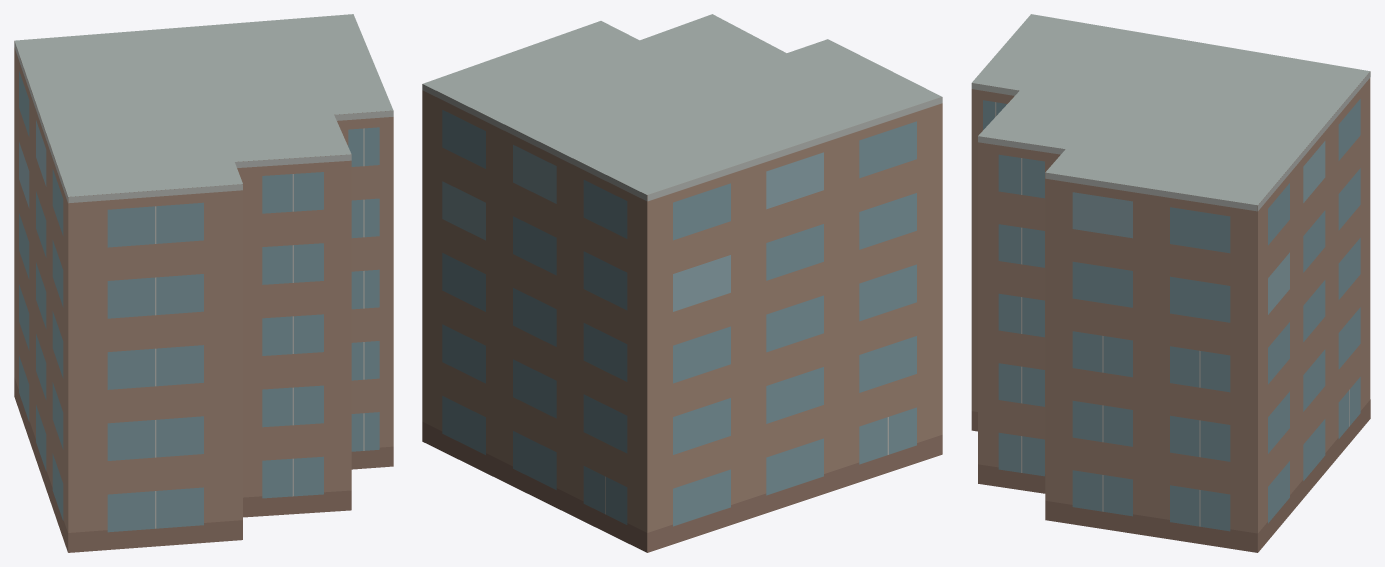
The model's file is survey-upis-32851039.glb.
3 renders of one model, left to right at view 1: azimuth 30°, elevation 25°; view 2: azimuth 150°, elevation 25°; view 3: azimuth 270°, elevation 25°, orthographic. The views are drawn at different scales.
Visible parts, largest first — view 1: survey-upis-32851039.tmp; view 2: survey-upis-32851039.tmp; view 3: survey-upis-32851039.tmp.
Part boxes in pixels (box(x1,y1,x2,y2)): survey-upis-32851039.tmp: box(14, 14, 393, 552); survey-upis-32851039.tmp: box(422, 14, 942, 552); survey-upis-32851039.tmp: box(971, 14, 1370, 552).
Bounding box in the file's own units: 16.3 × 13.8 × 14.36.
